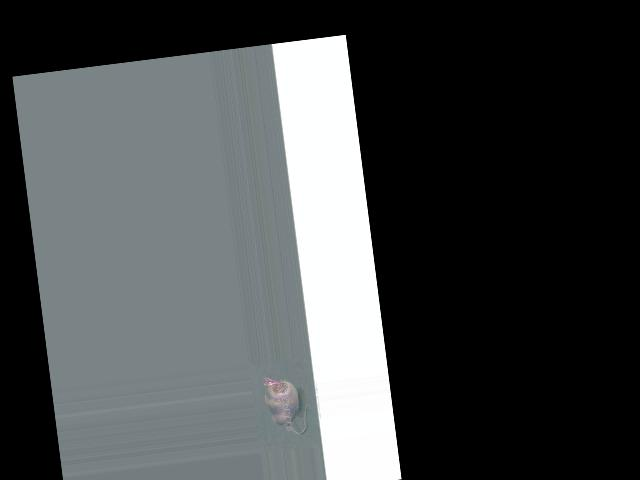beet: (262, 370, 310, 437)
